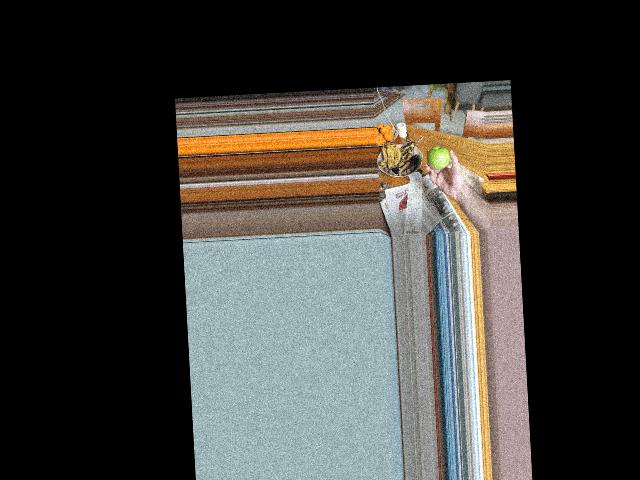apple: (428, 145, 454, 173)
